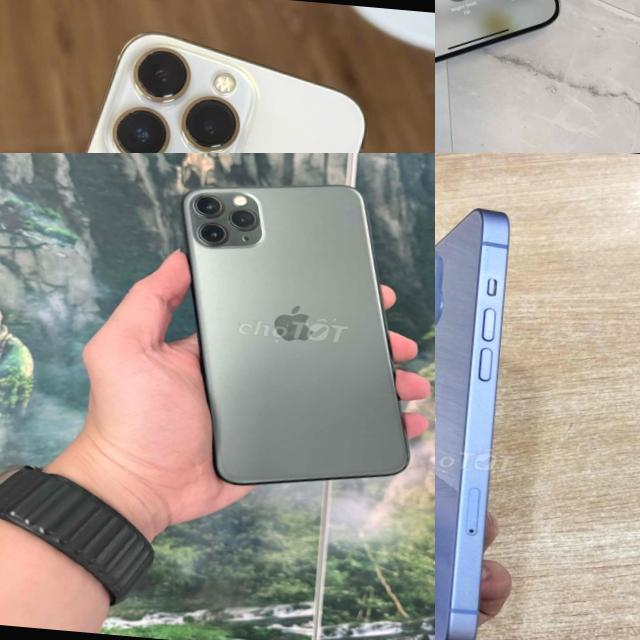gen_11: (154, 165, 435, 507)
gen_12_13: (0, 11, 375, 153)
gen_14: (435, 200, 526, 640)
gen_15: (435, 0, 597, 82)
